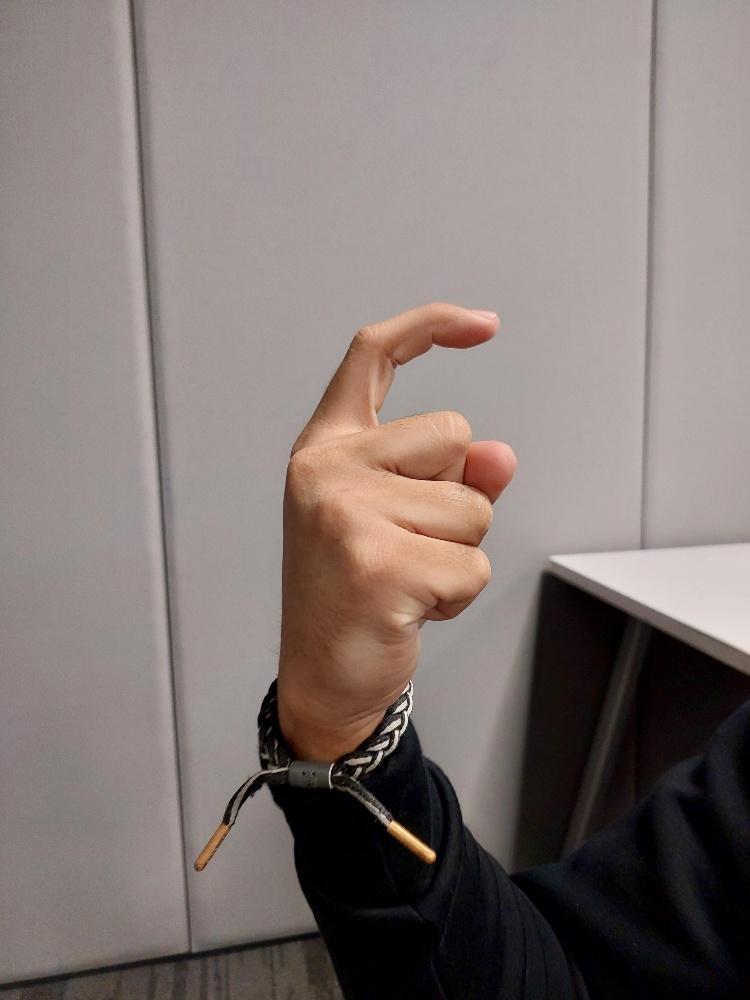x: (276, 299, 518, 728)
